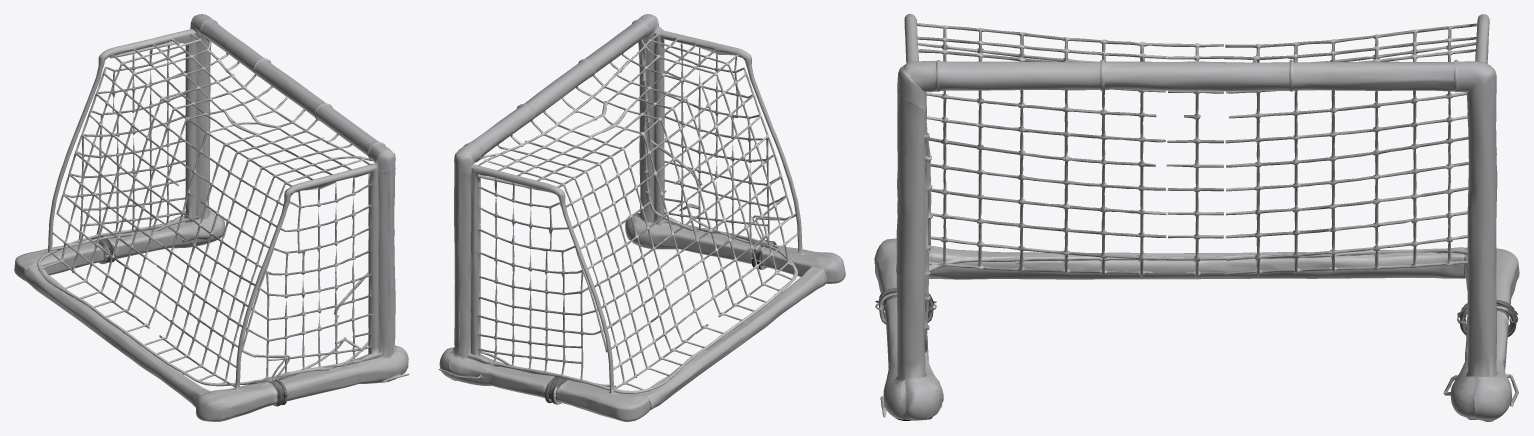
Rendered from porta-fornita.glb.
3 views of the same model, side by side, from view 1: azimuth 30°, elevation 25°; view 2: azimuth 150°, elevation 25°; view 3: azimuth 270°, elevation 25° (orthographic). The views are drawn at different scales.
Visible parts, largest first — view 1: tripo_node_b6c27001-2c0d-4b9b-b218-58a514372a3a; view 2: tripo_node_b6c27001-2c0d-4b9b-b218-58a514372a3a; view 3: tripo_node_b6c27001-2c0d-4b9b-b218-58a514372a3a.
Boxes of the visible parts, x1,y1,x2,y2 form: tripo_node_b6c27001-2c0d-4b9b-b218-58a514372a3a: (14, 14, 409, 421); tripo_node_b6c27001-2c0d-4b9b-b218-58a514372a3a: (438, 14, 845, 421); tripo_node_b6c27001-2c0d-4b9b-b218-58a514372a3a: (874, 14, 1519, 421).
Bounding box in the file's own units: 0.5771 × 0.5954 × 0.9807.
Materials: 1 (1 with a texture image).
